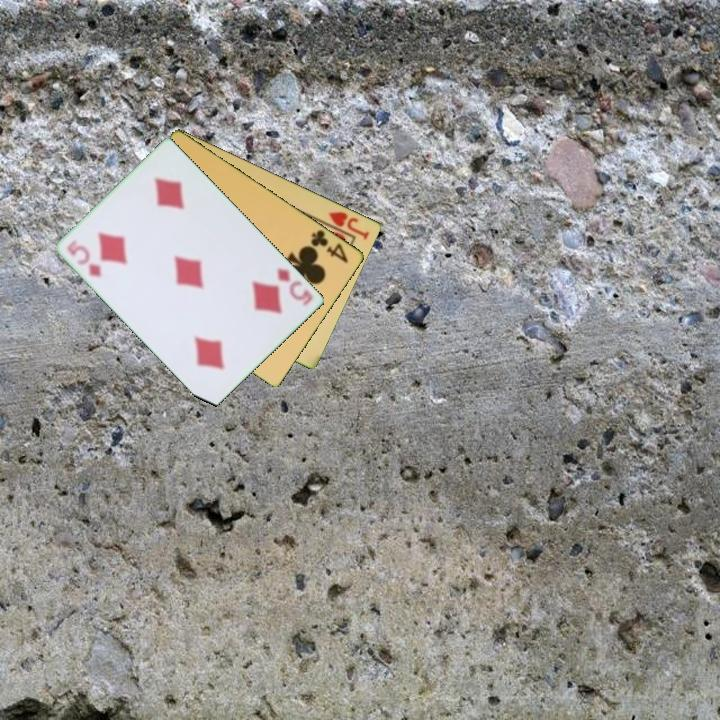4c: (308, 226, 352, 266)
5d: (274, 264, 316, 309), (64, 236, 105, 280)
Jh: (317, 208, 372, 243)
